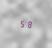eight: (25, 19, 30, 28)
five: (19, 19, 24, 27)
